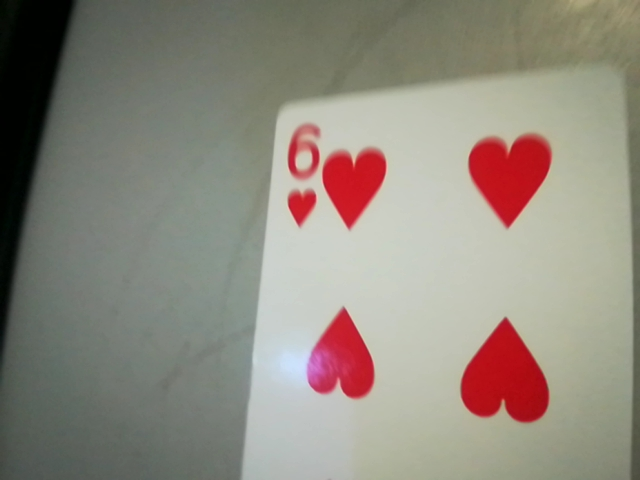hx 6: (271, 117, 325, 234)
